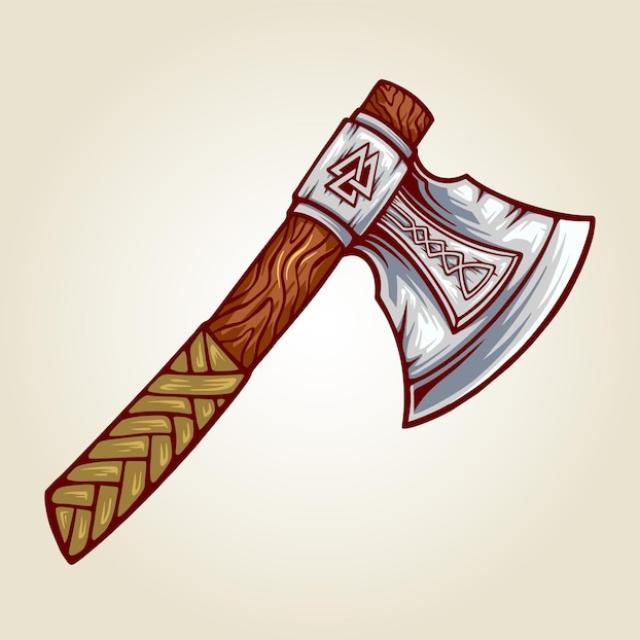Gun: (32, 81, 612, 565)
